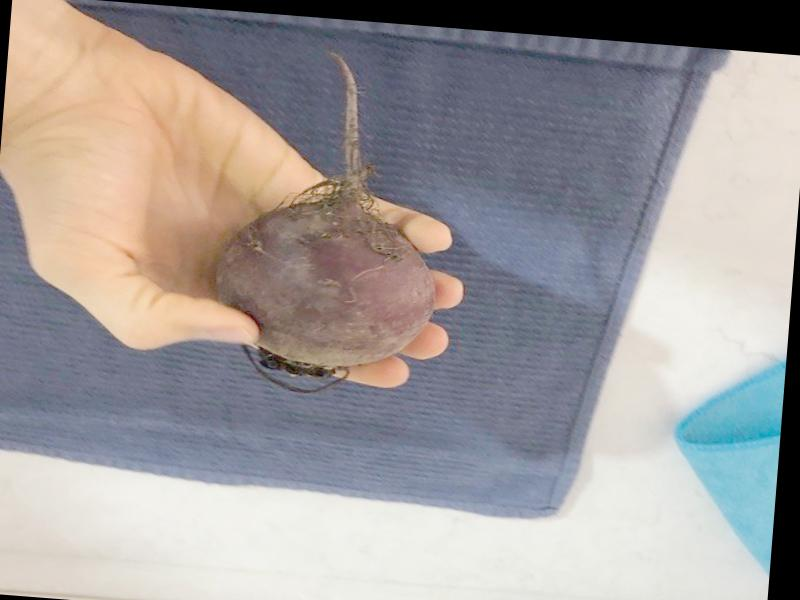Beet: (208, 43, 454, 401)
